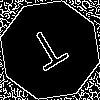T: (25, 25, 75, 80)
